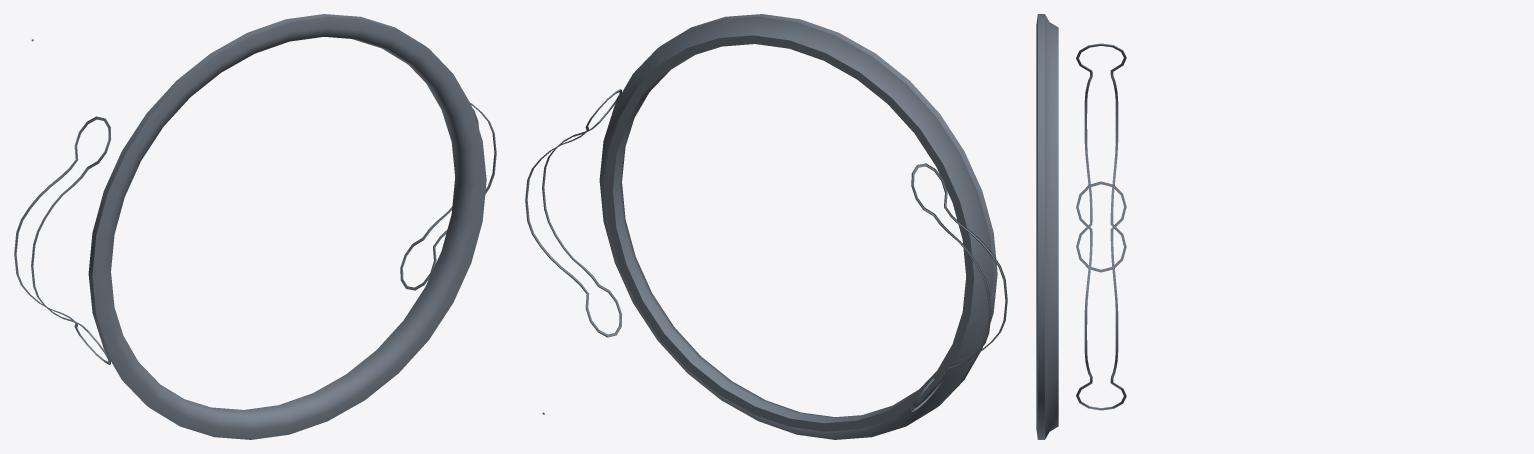
The model's file is MeshPot_8_0_GeomSubset_1.obj.
3 views of the same model, side by side, from view 1: azimuth 30°, elevation 25°; view 2: azimuth 150°, elevation 25°; view 3: azimuth 270°, elevation 25° (orthographic). The views are drawn at different scales.
Visible parts, largest first — view 1: MeshPot_8_0_GeomSubset_1; view 2: MeshPot_8_0_GeomSubset_1; view 3: MeshPot_8_0_GeomSubset_1.
Boxes of the visible parts, left/top/right/bottom form: MeshPot_8_0_GeomSubset_1: left=14, top=14, right=496, bottom=439; MeshPot_8_0_GeomSubset_1: left=525, top=14, right=1007, bottom=439; MeshPot_8_0_GeomSubset_1: left=1036, top=14, right=1126, bottom=439.
Bounding box in the file's own units: 0.2537 × 0.2151 × 0.2435.
